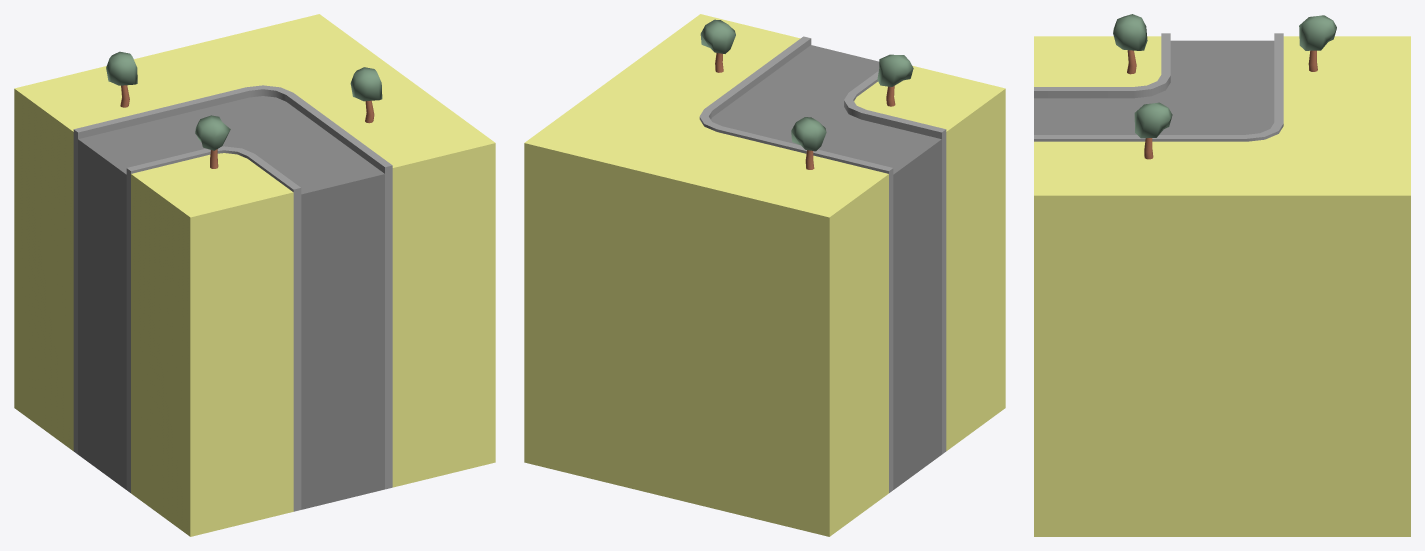
Rendered from City_tile_04.fbx.
3 renders of one model, left to right at view 1: azimuth 30°, elevation 25°; view 2: azimuth 150°, elevation 25°; view 3: azimuth 270°, elevation 25°, orthographic. The views are drawn at different scales.
Parts seen in each view (by area): view 1: City_tile_04; view 2: City_tile_04; view 3: City_tile_04.
Boxes of the visible parts, bbox=[...] form: City_tile_04: bbox=[14, 14, 495, 536]; City_tile_04: bbox=[524, 14, 1005, 536]; City_tile_04: bbox=[1034, 14, 1410, 536].
Size of the model in its own units: 100 by 116 by 100.
